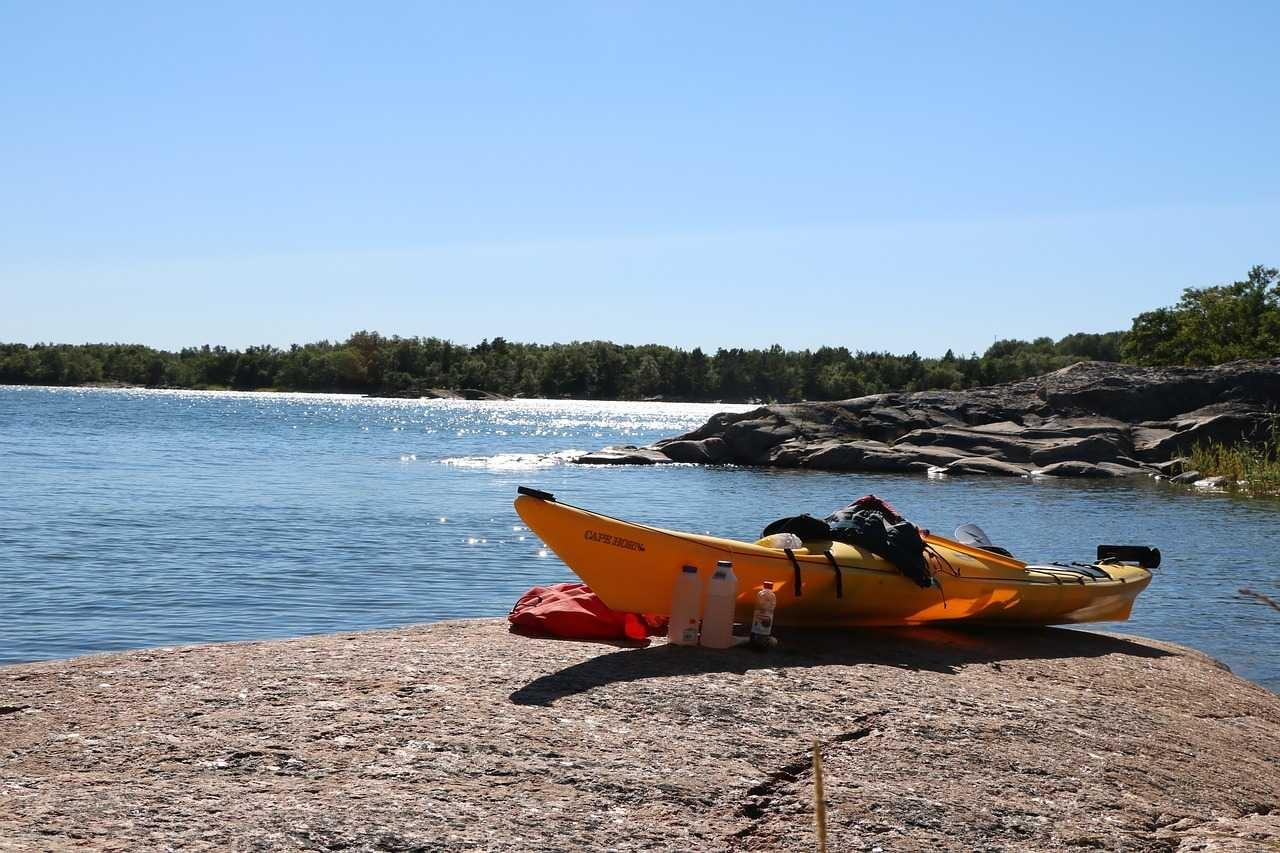kayak: (513, 487, 1161, 631)
